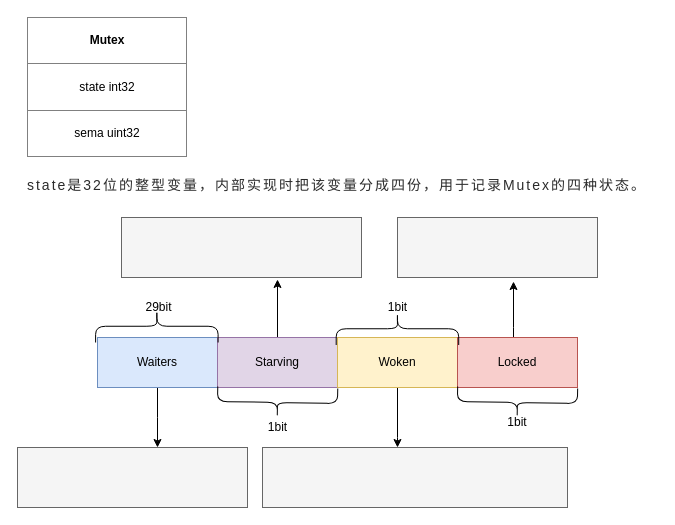
Some shapes in this 675 by 525 pixel diagram are drawn without their labels. Each missing label, with the centre of its shape:
"表示是否有协程已被唤醒 0：没有协程唤醒 1：已有协程唤醒" belongs at point 415,477.
"表示该Mutex是否处理饥饿状态 0：没有饥饿 1：饥饿状态" belongs at point 241,247.
"表示该Mutex是否已被锁定 0：没有锁定 1：已被锁定" belongs at point 497,247.
"表示阻塞等待锁的协程个数，协程解锁时根据此值来判断是否需要释放信号量" belongs at point 132,477.
